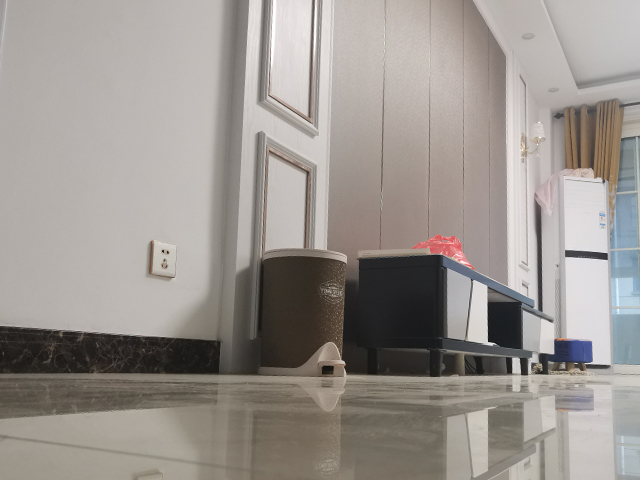cabinet: (355, 244, 558, 378)
stool: (550, 336, 595, 375)
trashcan: (256, 246, 350, 379)
